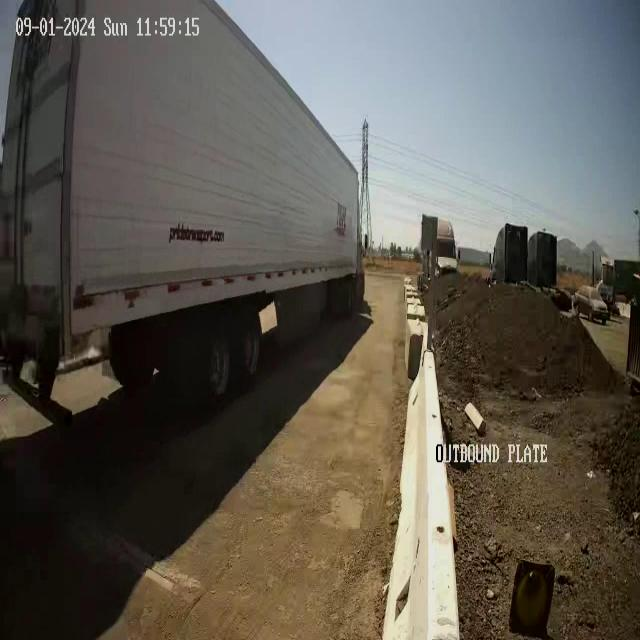CONTAINER: (1, 1, 356, 332)
